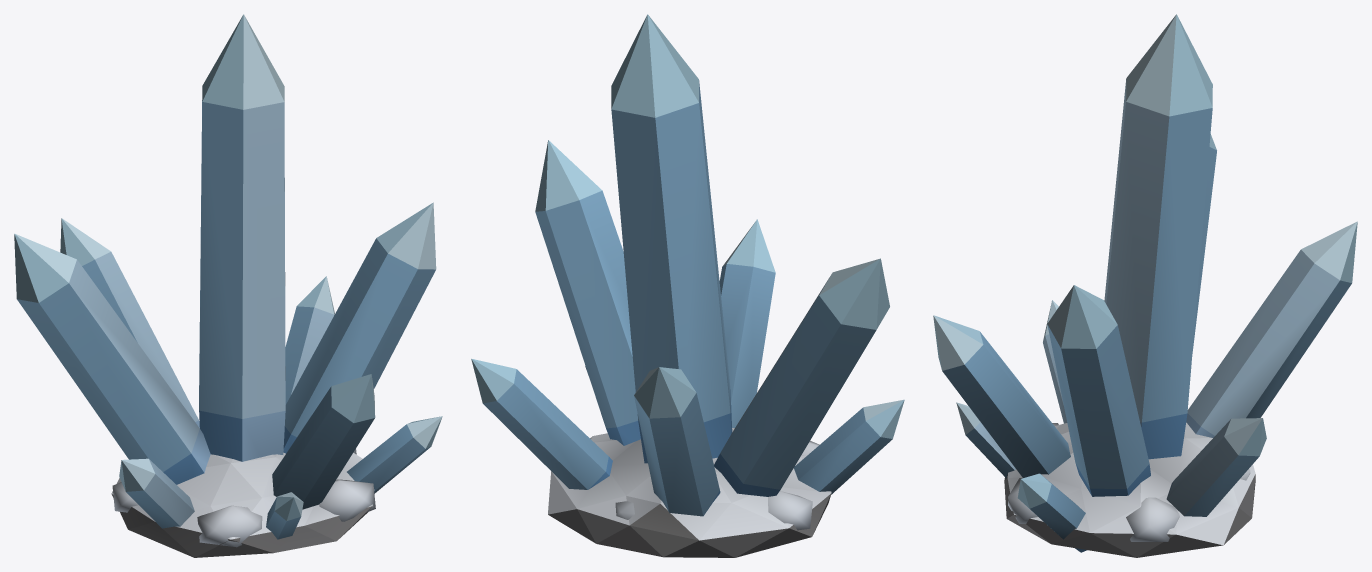
The model's file is Alpine_IceCrystal.glb.
3 views of the same model, side by side, from view 1: azimuth 30°, elevation 25°; view 2: azimuth 150°, elevation 25°; view 3: azimuth 270°, elevation 25° (orthographic). The views are drawn at different scales.
Visible parts, largest first — view 1: Alpine_IceCrystal; view 2: Alpine_IceCrystal; view 3: Alpine_IceCrystal.
Part boxes in pixels (x1,y1,x2,y2): Alpine_IceCrystal: (14, 14, 442, 557); Alpine_IceCrystal: (471, 14, 904, 557); Alpine_IceCrystal: (933, 14, 1357, 557).
Size of the model in its own units: 8.89 by 11.23 by 8.44.
